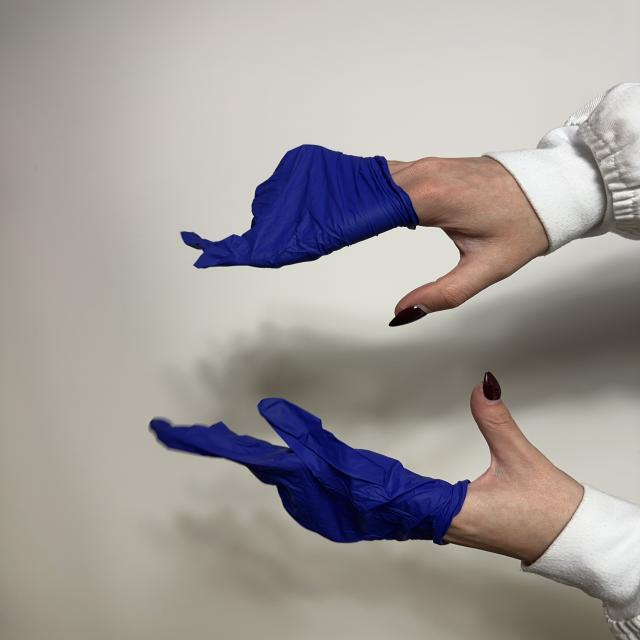glove_partial: (151, 372, 584, 564), (183, 145, 548, 326)
